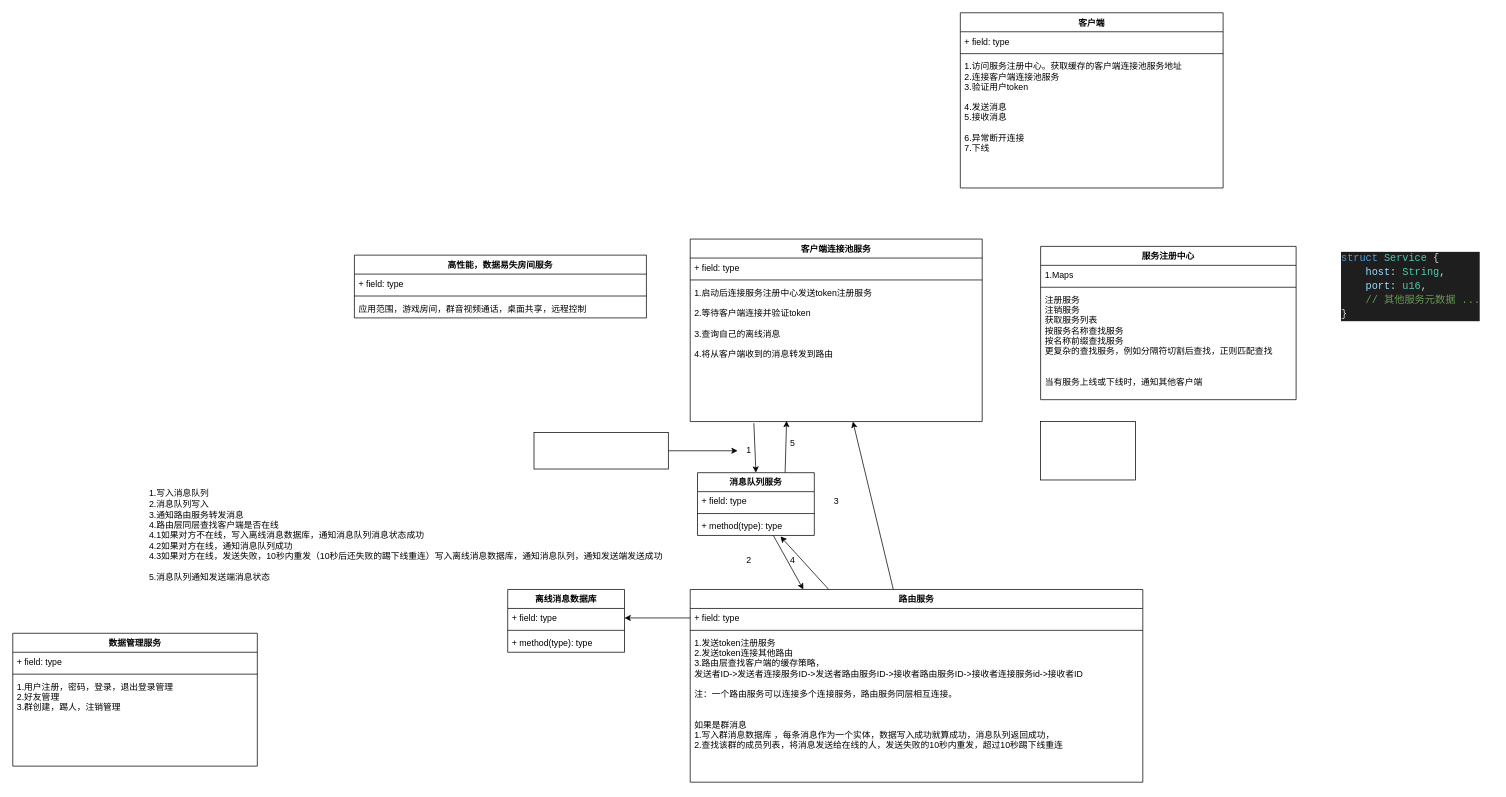
Image size: 1506x797. Some labels were removed from this diagram. Each missing label, with the centre of its shape:
"当socket连接上时， 1.验证token 2.推送验证成功 否则10秒后断开连接" goes at point 1088,450.
"消息可达权限验证以及验证缓存" goes at point 600,450.
